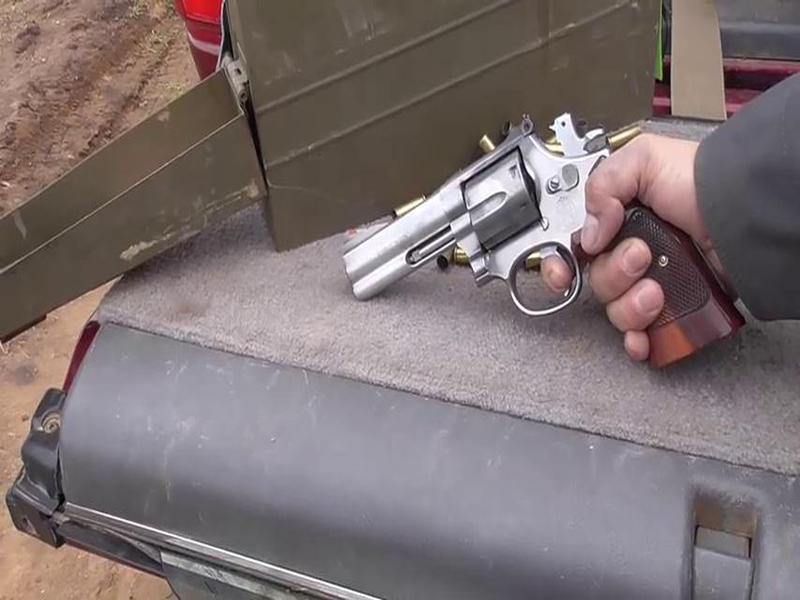Revolver: (333, 94, 735, 375)
